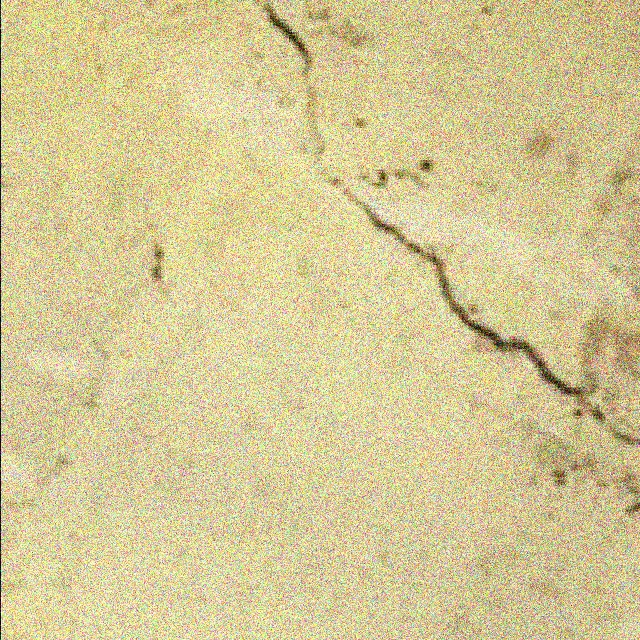SurfaceCrack: (236, 0, 640, 452)
